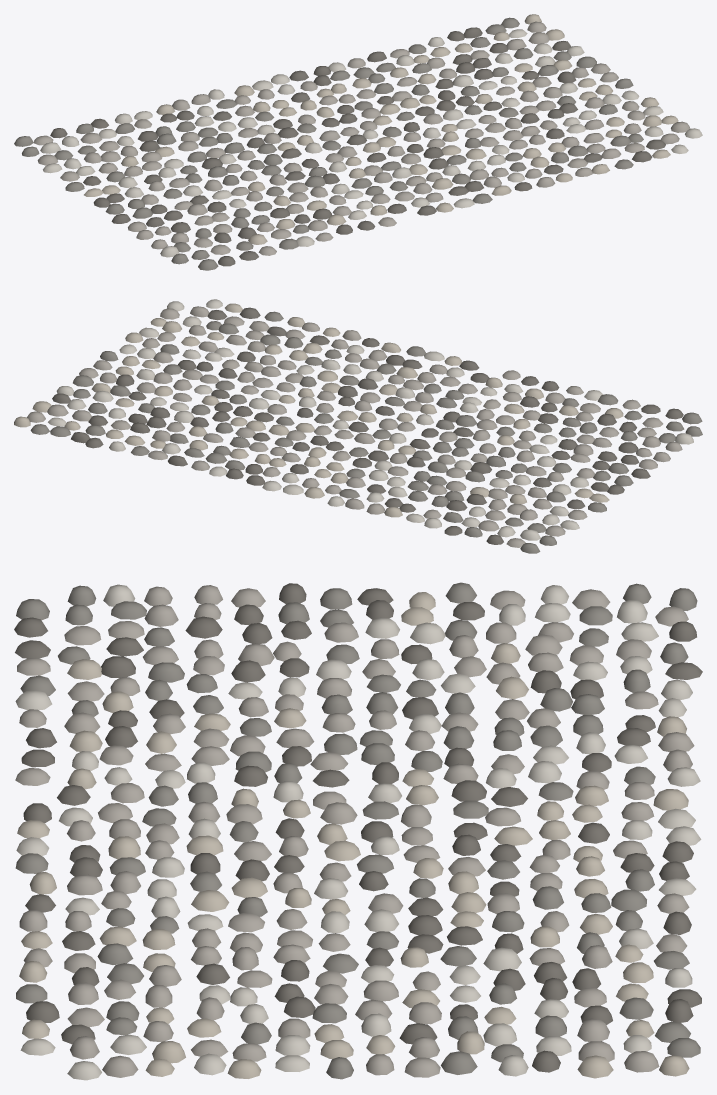
The model's file is court_pebbles.fbx.
3 renders of one model, top to bottom at view 1: azimuth 30°, elevation 25°; view 2: azimuth 150°, elevation 25°; view 3: azimuth 270°, elevation 25°, orthographic. The views are drawn at different scales.
Visible parts, largest first — view 1: court_pebbles; view 2: court_pebbles; view 3: court_pebbles.
Boxes of the visible parts, x1,y1,x2,y2 form: court_pebbles: (14, 14, 702, 270); court_pebbles: (14, 299, 702, 553); court_pebbles: (14, 582, 702, 1080).
Size of the model in its own units: 3 by 1.77 by 0.035.
